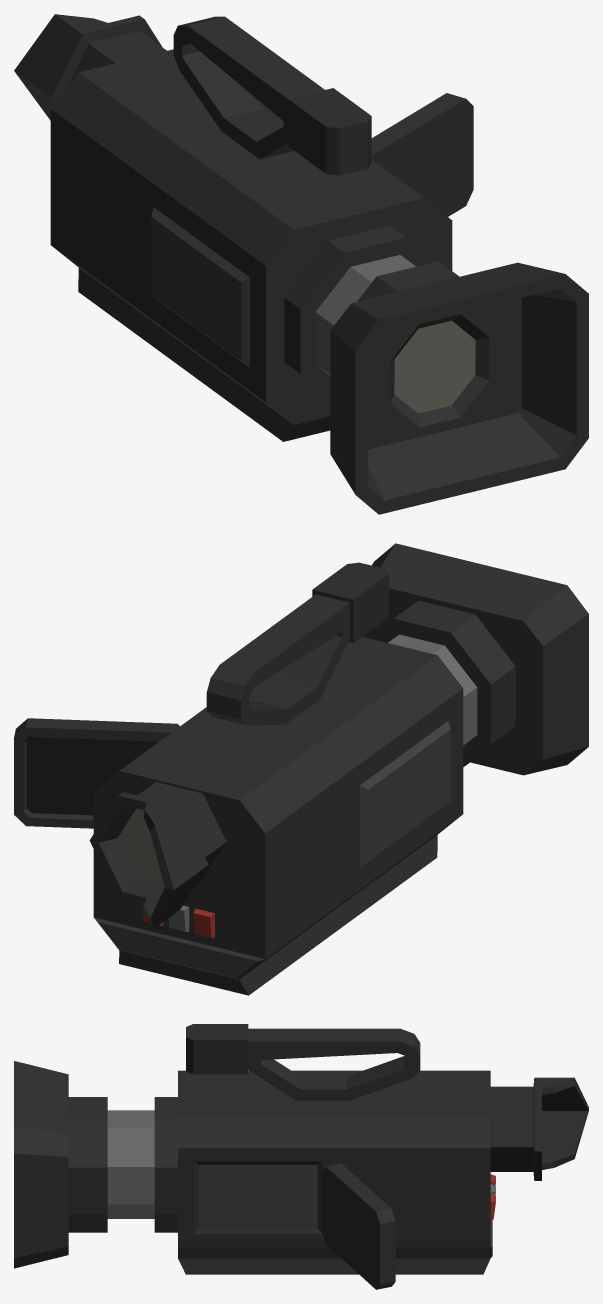
The model's file is SM_Props_News_Camera.fbx.
The picture shows the model from 3 angles, top to bottom: view 1: azimuth 30°, elevation 25°; view 2: azimuth 150°, elevation 25°; view 3: azimuth 270°, elevation 25°; orthographic projection. The views are drawn at different scales.
Visible parts, largest first — view 1: SM_Props_News_Camera; view 2: SM_Props_News_Camera; view 3: SM_Props_News_Camera.
Part boxes in pixels (x1=…): SM_Props_News_Camera: x1=14, y1=14, x2=588, y2=514; SM_Props_News_Camera: x1=14, y1=543, x2=588, y2=995; SM_Props_News_Camera: x1=14, y1=1024, x2=588, y2=1289.
Size of the model in its own units: 51.65 by 39.94 by 95.69.
